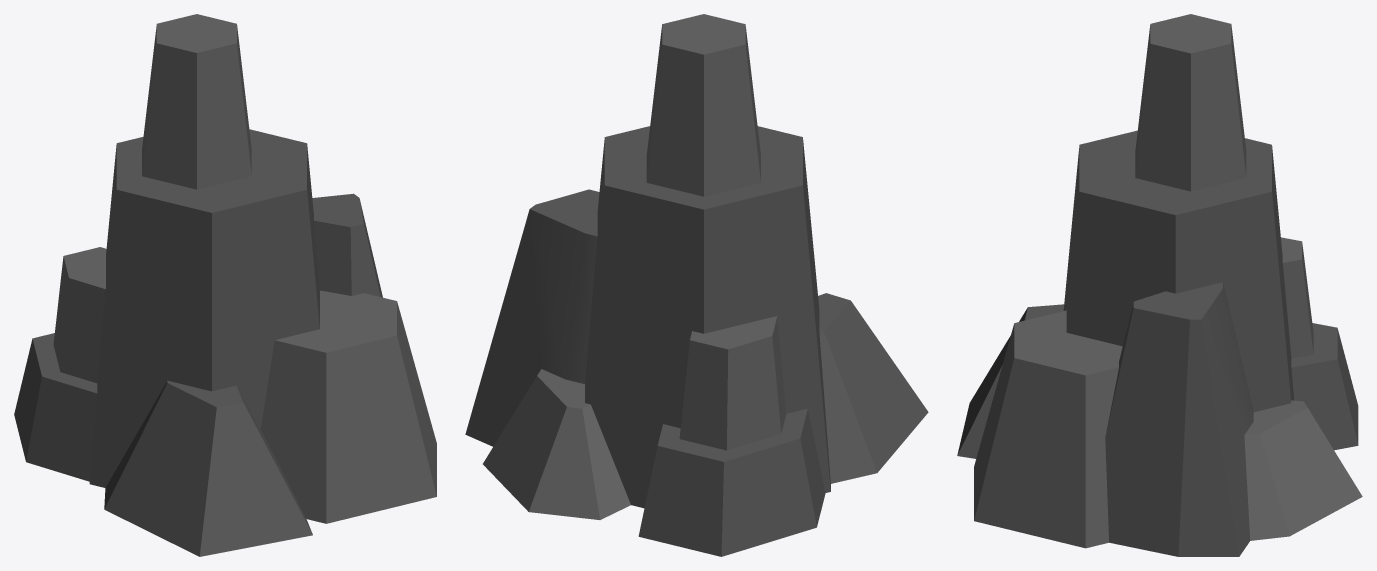
Rendered from stoneOre.fbx.
3 views of the same model, side by side, from view 1: azimuth 30°, elevation 25°; view 2: azimuth 150°, elevation 25°; view 3: azimuth 270°, elevation 25° (orthographic). The views are drawn at different scales.
Parts seen in each view (by area): view 1: stone_tallB; view 2: stone_tallB; view 3: stone_tallB.
Part boxes in pixels (left/top/right/bottom): stone_tallB: left=14, top=14, right=436, bottom=556; stone_tallB: left=465, top=14, right=928, bottom=556; stone_tallB: left=957, top=14, right=1362, bottom=556.
Bounding box in the file's own units: 2.02 × 2.33 × 2.03.
